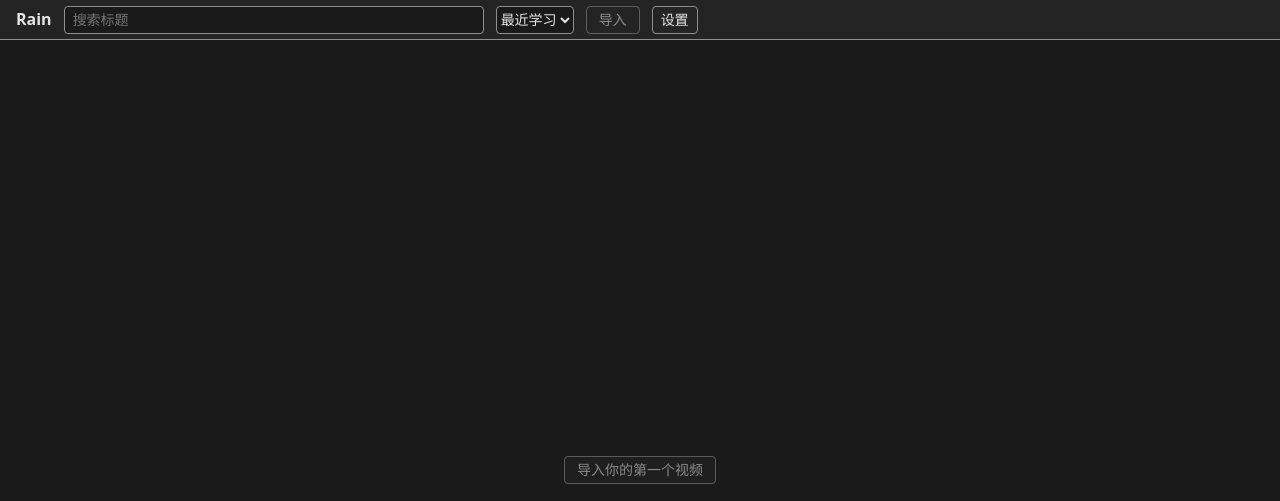
Test case: AC-VL-03 VideoListPage title search › shows a no-title-match state instead of the empty-library state
The width and height of the screenshot is (1280, 501).
Type "absent title" into the field named "搜索视频标题". click: (274, 20)
box: [64,6,484,34]
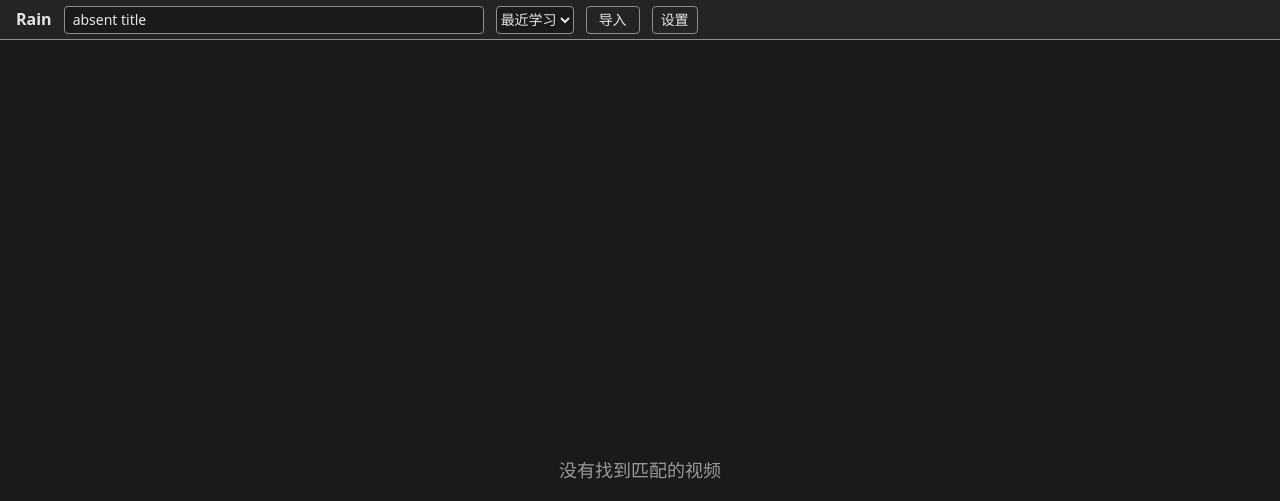
Expected: the message reads "没有找到匹配的视频", [559,458,721,482]
Expected: the button "导入你的第一个视频" is gone
